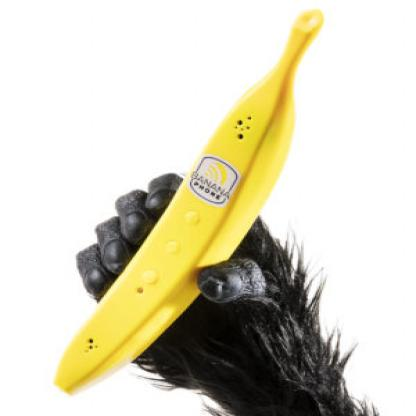banana: (39, 12, 340, 401)
